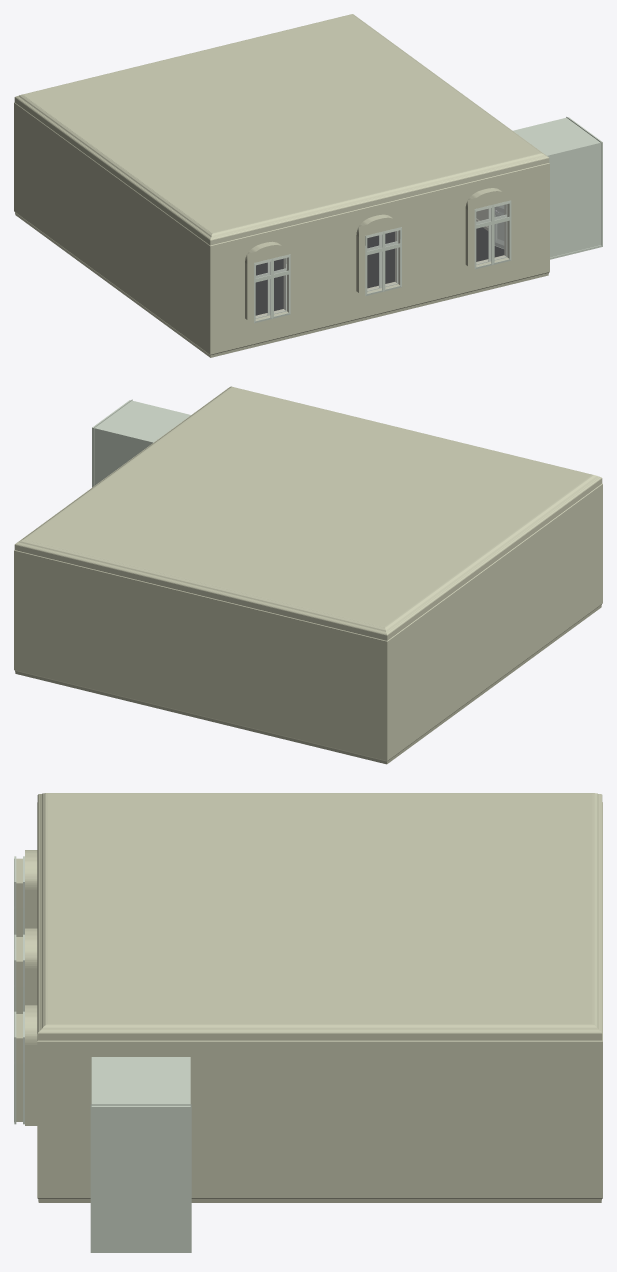
3 renders of one model, top to bottom at view 1: azimuth 30°, elevation 25°; view 2: azimuth 150°, elevation 25°; view 3: azimuth 270°, elevation 25°, orthographic. The views are drawn at different scales.
Parts seen in each view (by area): view 1: Cube, Doorframe, WindowFrame, WindowFrame.001, WindowFrame.002, Window2., Window2..002, Window2..001; view 2: Cube, Doorframe; view 3: Cube, Doorframe, WindowFrame, WindowFrame.002, WindowFrame.001.
Boxes of the visible parts, x1,y1,x2,y2 form: Cube: (14, 14, 549, 357); Doorframe: (513, 117, 602, 259); WindowFrame: (465, 188, 517, 281); WindowFrame.001: (356, 214, 408, 308); WindowFrame.002: (245, 241, 296, 335); Window2.: (474, 200, 511, 269); Window2..002: (254, 254, 290, 323); Window2..001: (365, 227, 401, 295); Cube: (14, 386, 602, 764); Doorframe: (92, 399, 190, 487); Cube: (37, 793, 602, 1202); Doorframe: (90, 1057, 191, 1252); WindowFrame: (16, 1005, 37, 1125); WindowFrame.002: (16, 850, 37, 936); WindowFrame.001: (16, 928, 37, 1013).
Size of the model in its own units: 10.64 by 3.06 by 9.14.
